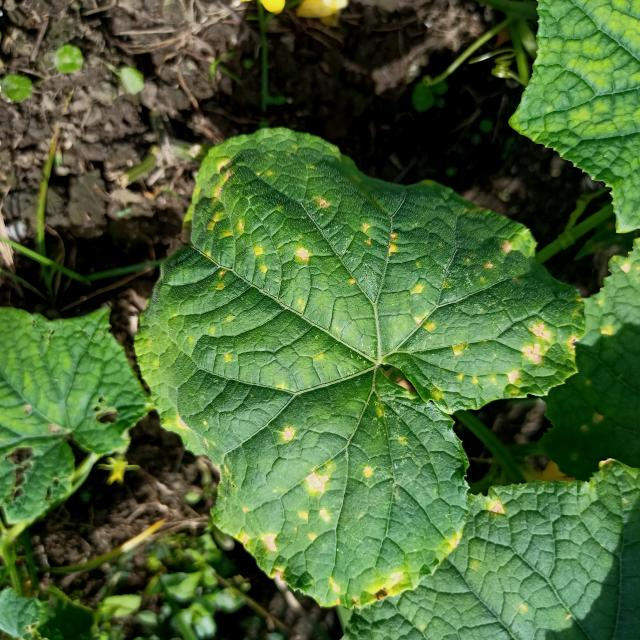disease_cucumber: (153, 136, 568, 599)
